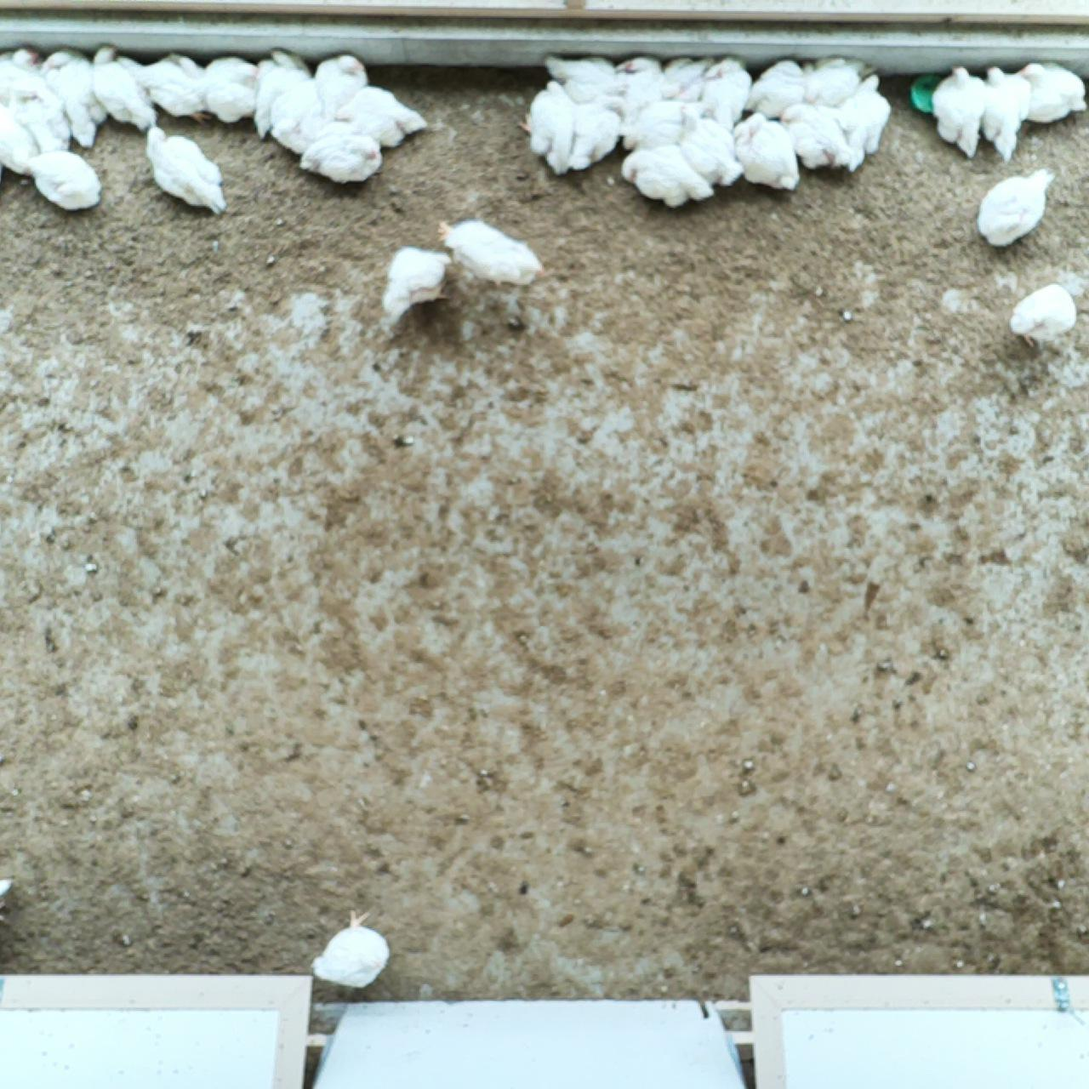chicken: (144, 124, 232, 224), (435, 218, 546, 289), (117, 50, 212, 128), (310, 905, 398, 989), (40, 46, 112, 148), (978, 162, 1056, 253), (617, 141, 716, 208), (733, 106, 807, 191), (375, 247, 451, 328), (90, 45, 156, 136), (20, 145, 106, 214), (929, 65, 992, 158), (335, 88, 429, 150), (976, 65, 1034, 164), (254, 46, 314, 141), (294, 125, 385, 187), (780, 100, 857, 172), (676, 105, 744, 186), (520, 78, 575, 176), (8, 77, 73, 158), (614, 95, 701, 154), (193, 53, 261, 127), (269, 78, 331, 159), (1003, 283, 1079, 347), (1013, 60, 1088, 124), (837, 68, 890, 158), (306, 48, 372, 120), (565, 97, 624, 176), (801, 50, 881, 108), (609, 53, 673, 124), (741, 60, 818, 119), (540, 49, 618, 107), (700, 57, 754, 132), (0, 41, 58, 108), (659, 54, 724, 106), (0, 98, 38, 179)
